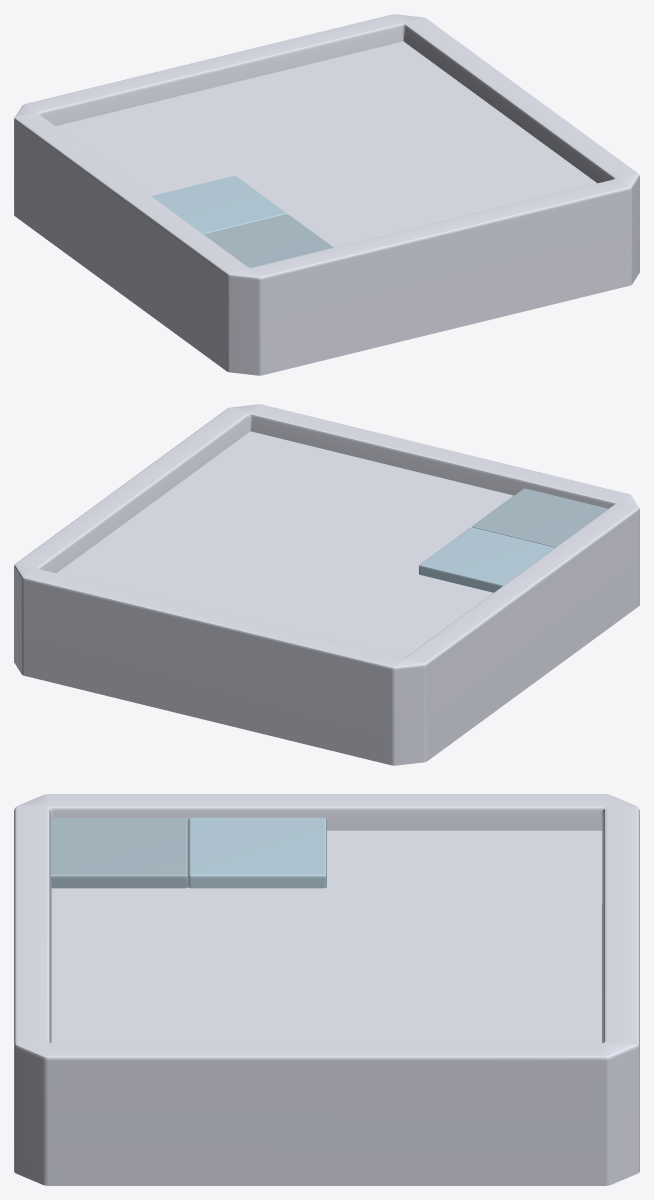
Rendered from main.fbx.
3 renders of one model, top to bottom at view 1: azimuth 30°, elevation 25°; view 2: azimuth 150°, elevation 25°; view 3: azimuth 270°, elevation 25°, orthographic. The views are drawn at different scales.
Parts seen in each view (by area): view 1: main_base, box_02, box_01; view 2: main_base, box_02, box_01; view 3: main_base, box_02, box_01.
Part boxes in pixels (x1,y1,x2,y2): main_base: (14,14,639,375); box_02: (151,176,286,234); box_01: (204,214,333,267); main_base: (14,404,639,765); box_02: (419,527,554,592); box_01: (472,488,608,547); main_base: (14,794,639,1185); box_02: (188,817,326,888); box_01: (50,817,188,888).
Size of the model in its own units: 3463 by 786 by 3463.
